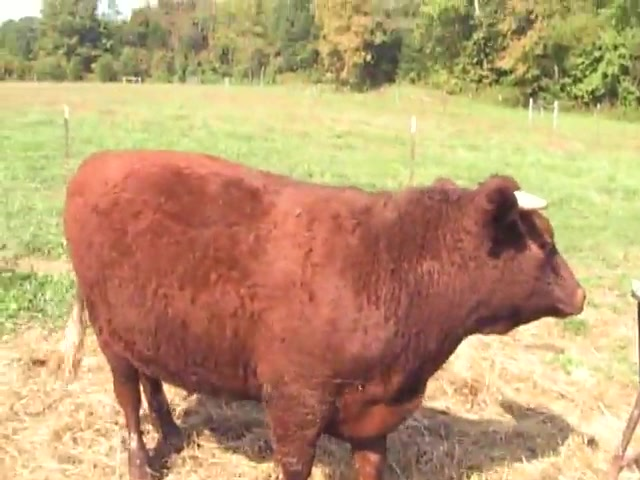cow: (62, 148, 587, 476)
